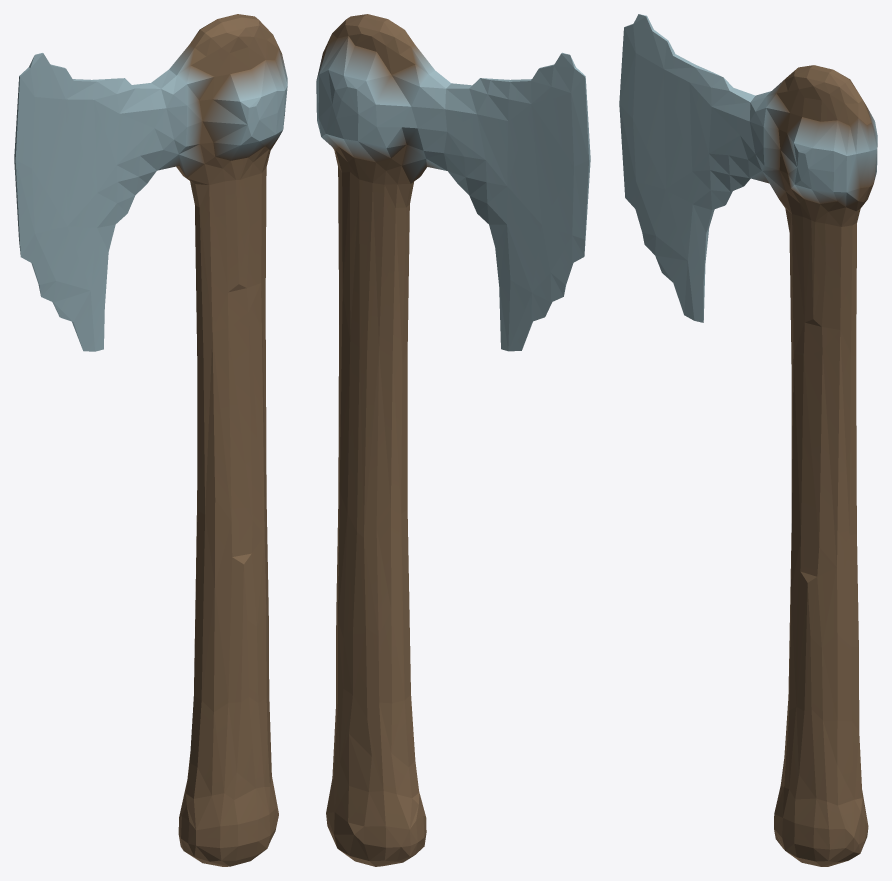
Rendered from axe_aetherite.glb.
3 views of the same model, side by side, from view 1: azimuth 30°, elevation 25°; view 2: azimuth 150°, elevation 25°; view 3: azimuth 330°, elevation 25° (orthographic). The views are drawn at different scales.
Visible parts, largest first — view 1: world; view 2: world; view 3: world.
Part boxes in pixels (x1,y1,x2,y2): world: [14, 14, 287, 866]; world: [316, 14, 590, 866]; world: [619, 14, 877, 866].
Bounding box in the file's own units: 0.3306 × 1 × 0.0954.
